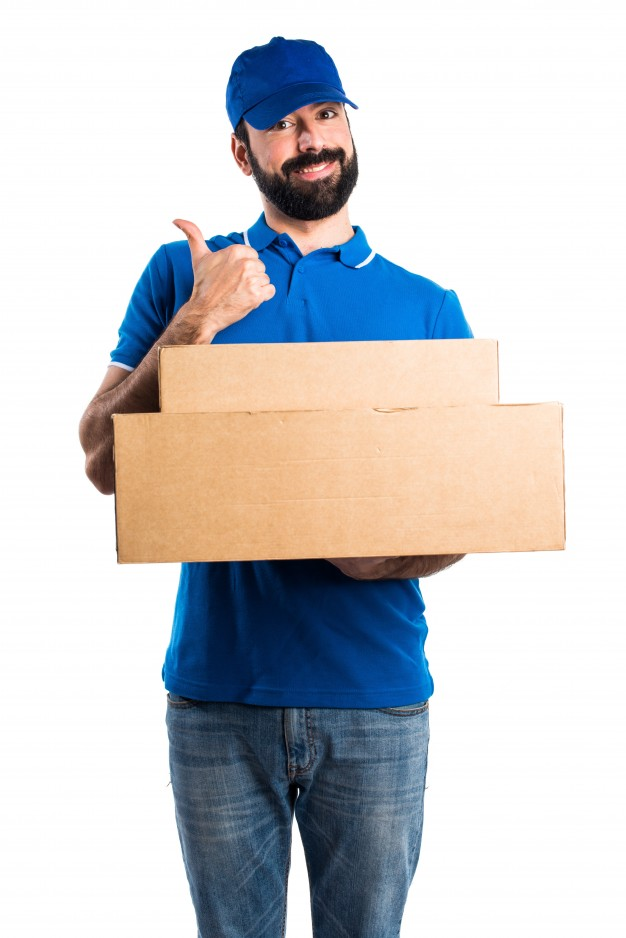thumbsup: (172, 218, 276, 305)
